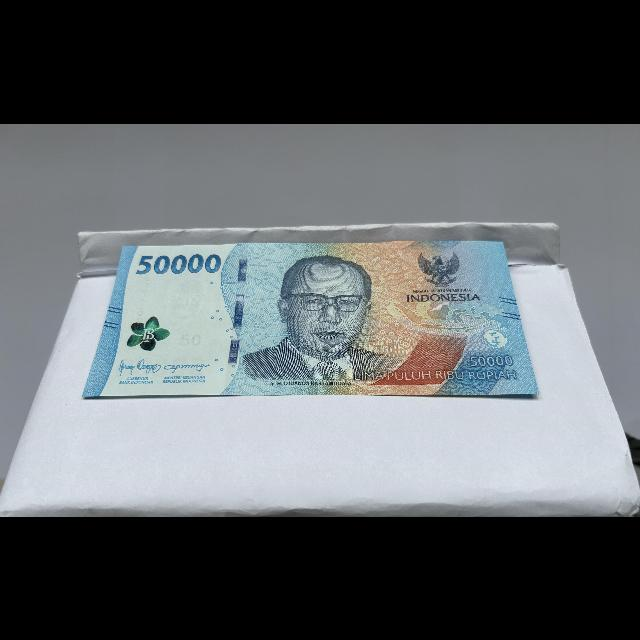Asli-50k: (77, 237, 544, 402)
Tinta-Asli-50k: (120, 303, 177, 361)
